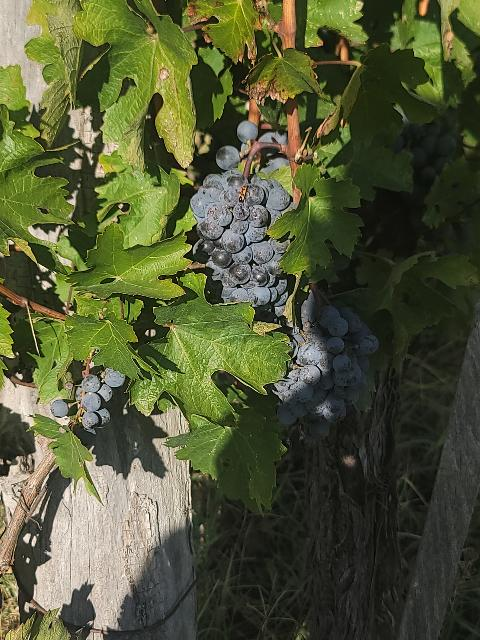grapes: (272, 291, 379, 440), (191, 169, 294, 320), (80, 368, 125, 431)
